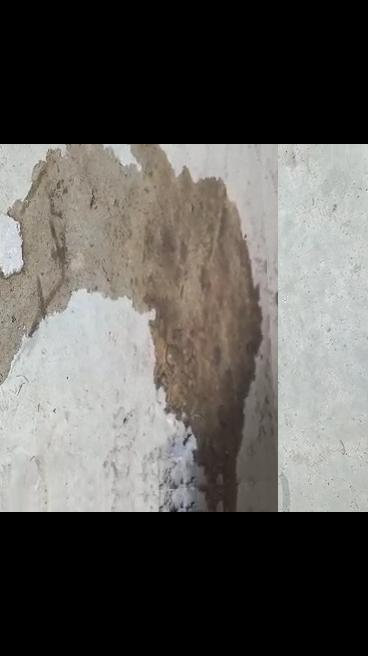water accumulation: (0, 144, 263, 512)
